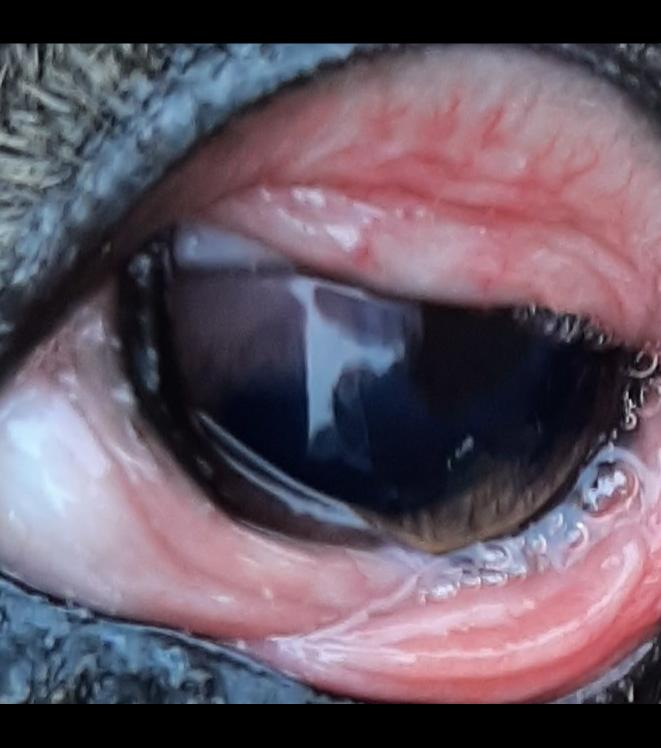eye_membrane: (0, 60, 661, 704)
